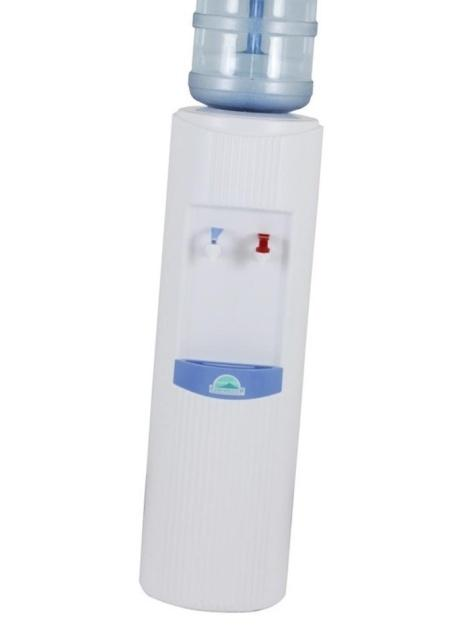Dispenser: (136, 0, 322, 614)
